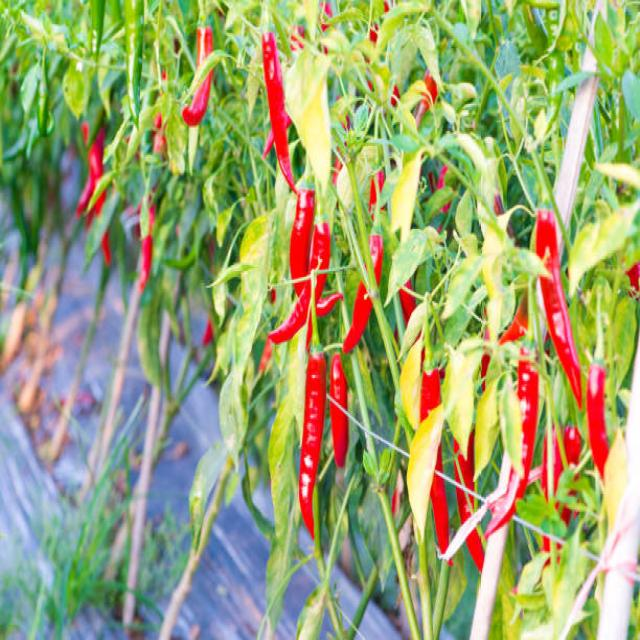Ripe: (485, 358, 539, 537), (536, 209, 581, 408), (267, 226, 332, 348), (289, 191, 345, 316), (262, 31, 298, 192), (299, 351, 326, 534), (454, 433, 485, 572), (586, 364, 609, 476), (330, 353, 350, 471), (342, 281, 372, 353), (182, 70, 212, 125), (430, 475, 449, 552), (422, 369, 440, 420), (198, 25, 212, 68), (371, 234, 382, 284)
Unripe: (126, 0, 144, 125)
